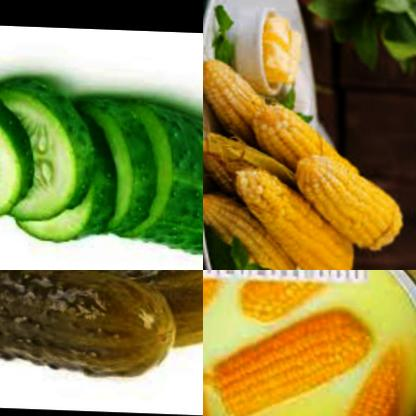corn: (208, 305, 374, 416), (231, 168, 367, 270), (290, 145, 406, 247), (203, 189, 315, 270), (251, 105, 361, 182), (204, 54, 291, 150), (223, 272, 335, 327), (335, 336, 411, 416)
cucumber: (33, 87, 157, 259), (0, 270, 181, 373), (2, 61, 91, 230), (37, 270, 203, 352), (0, 75, 32, 237)
